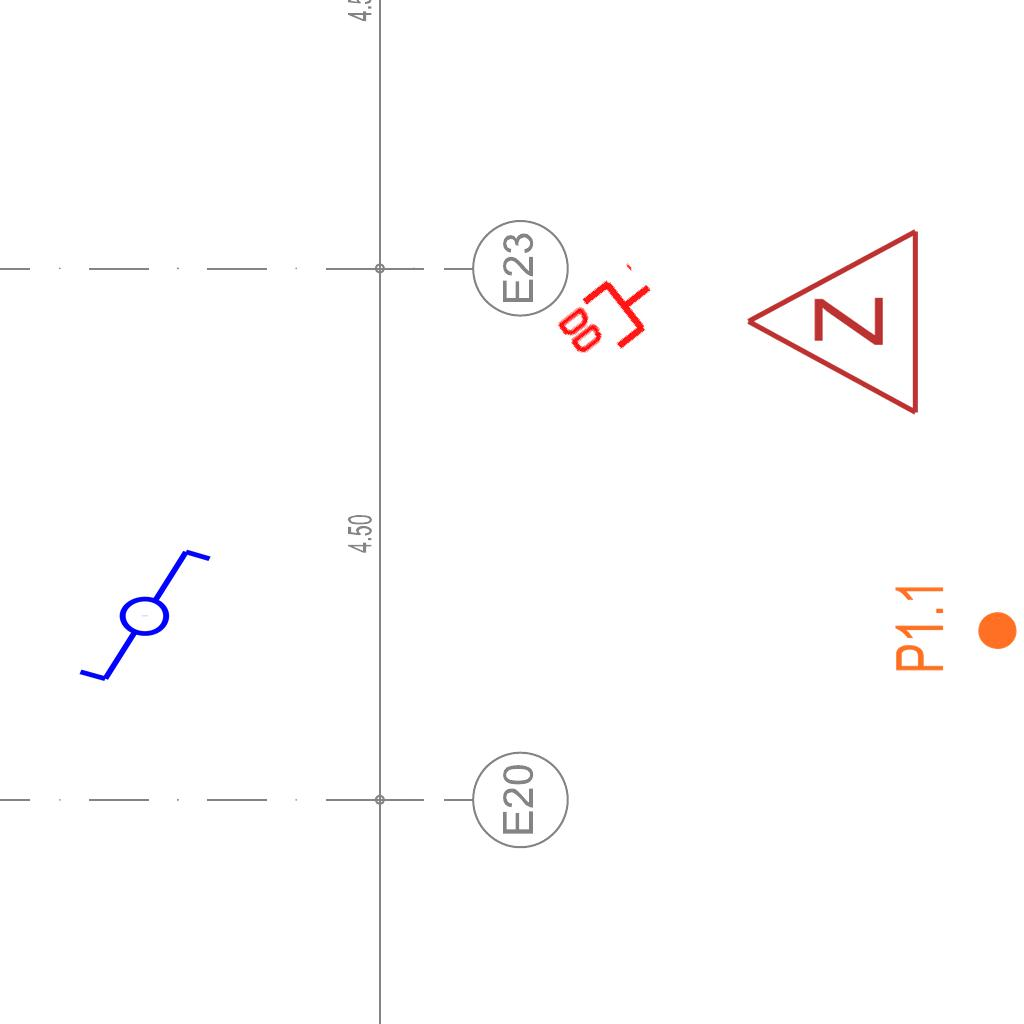Datenanschluss_zweifach: (549, 259, 674, 378)
Downlight_LED_Einbauleuchten_Flur: (892, 581, 1020, 674)
Wechselschalter: (58, 542, 215, 686)
Zimmersignalleuchte: (733, 226, 933, 422)
